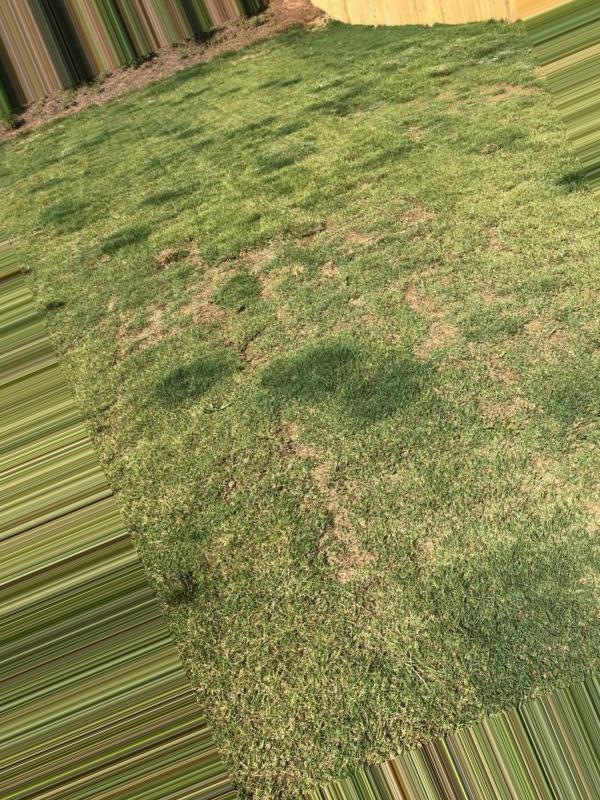patch: (145, 236, 358, 345), (275, 453, 403, 582), (394, 287, 468, 372)
